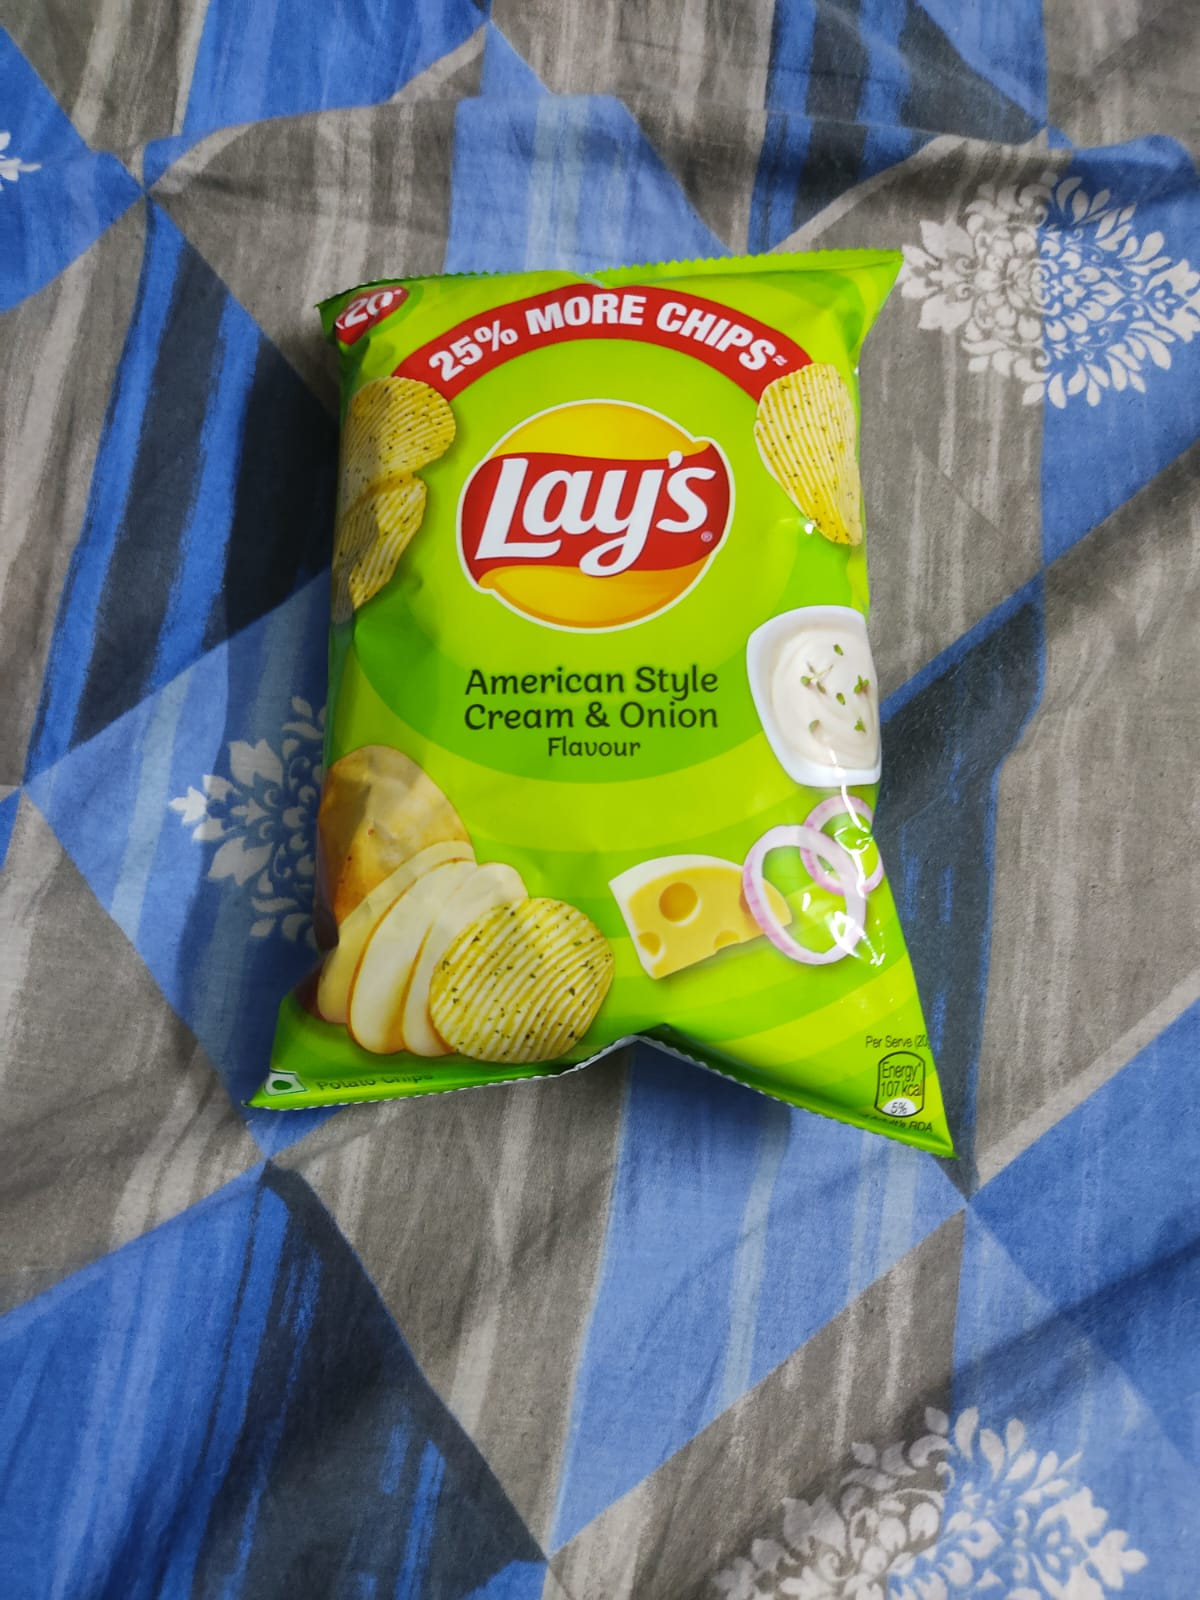020_GreenLays: (330, 280, 921, 1104)
